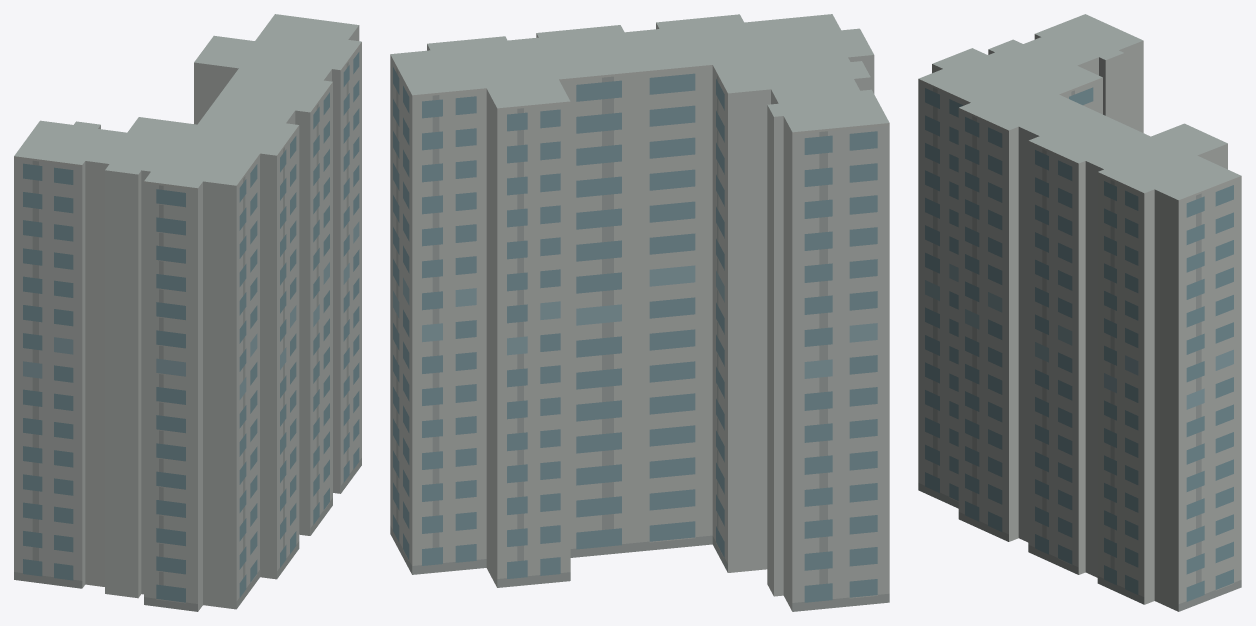
The model's file is residential-fb3bf6a7-74be-4a65-82df-2e3e2281ac8e.glb.
The picture shows the model from 3 angles, left to right: view 1: azimuth 30°, elevation 25°; view 2: azimuth 150°, elevation 25°; view 3: azimuth 270°, elevation 25°; orthographic projection. The views are drawn at different scales.
Parts seen in each view (by area): view 1: residential-fb3bf6a7-74be-4a65-82df-2e3e2281ac8e.tmp; view 2: residential-fb3bf6a7-74be-4a65-82df-2e3e2281ac8e.tmp; view 3: residential-fb3bf6a7-74be-4a65-82df-2e3e2281ac8e.tmp.
Boxes of the visible parts, bbox=[...] form: residential-fb3bf6a7-74be-4a65-82df-2e3e2281ac8e.tmp: bbox=[14, 14, 361, 611]; residential-fb3bf6a7-74be-4a65-82df-2e3e2281ac8e.tmp: bbox=[390, 14, 889, 611]; residential-fb3bf6a7-74be-4a65-82df-2e3e2281ac8e.tmp: bbox=[918, 14, 1241, 611].
Size of the model in its own units: 49.53 by 51 by 36.31.
